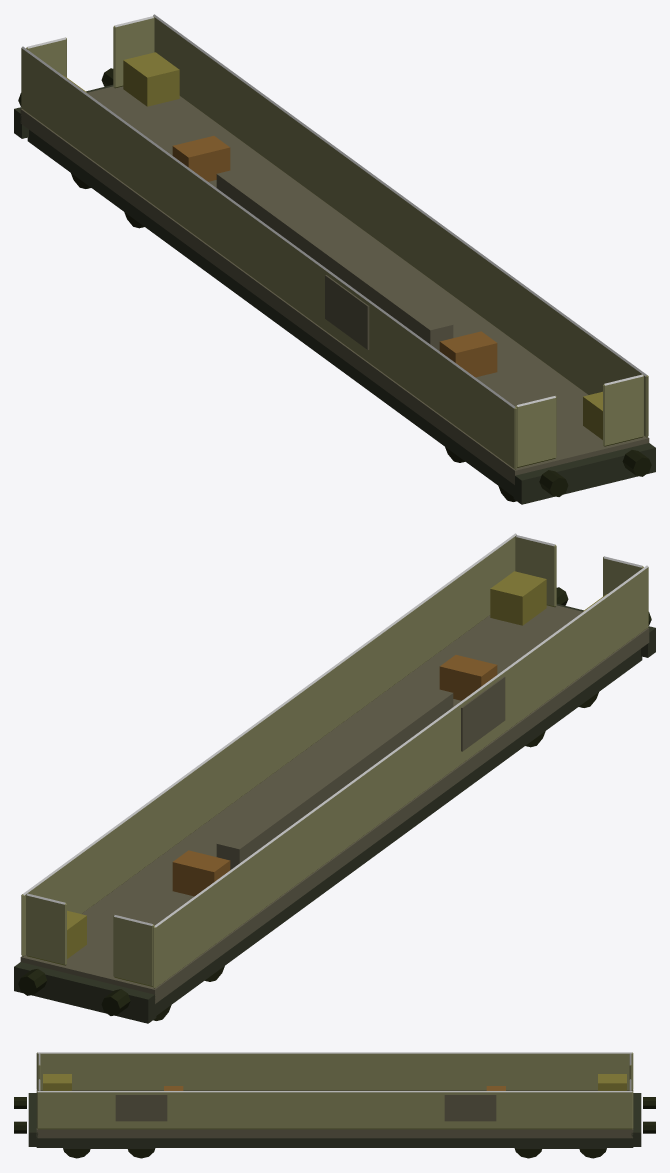
Rendered from SM_R2_VagonTropa_LOD1.fbx.
3 views of the same model, one above another, from view 1: azimuth 30°, elevation 25°; view 2: azimuth 150°, elevation 25°; view 3: azimuth 270°, elevation 25° (orthographic). The views are drawn at different scales.
Visible parts, largest first — view 1: SM_R2_VagonTropa_LOD1; view 2: SM_R2_VagonTropa_LOD1; view 3: SM_R2_VagonTropa_LOD1.
Boxes of the visible parts, <box> form: SM_R2_VagonTropa_LOD1: <box>14,14,655,504</box>; SM_R2_VagonTropa_LOD1: <box>14,533,655,1023</box>; SM_R2_VagonTropa_LOD1: <box>14,1052,655,1158</box>.
Bounding box in the file's own units: 2.97 × 2.55 × 19.9.
